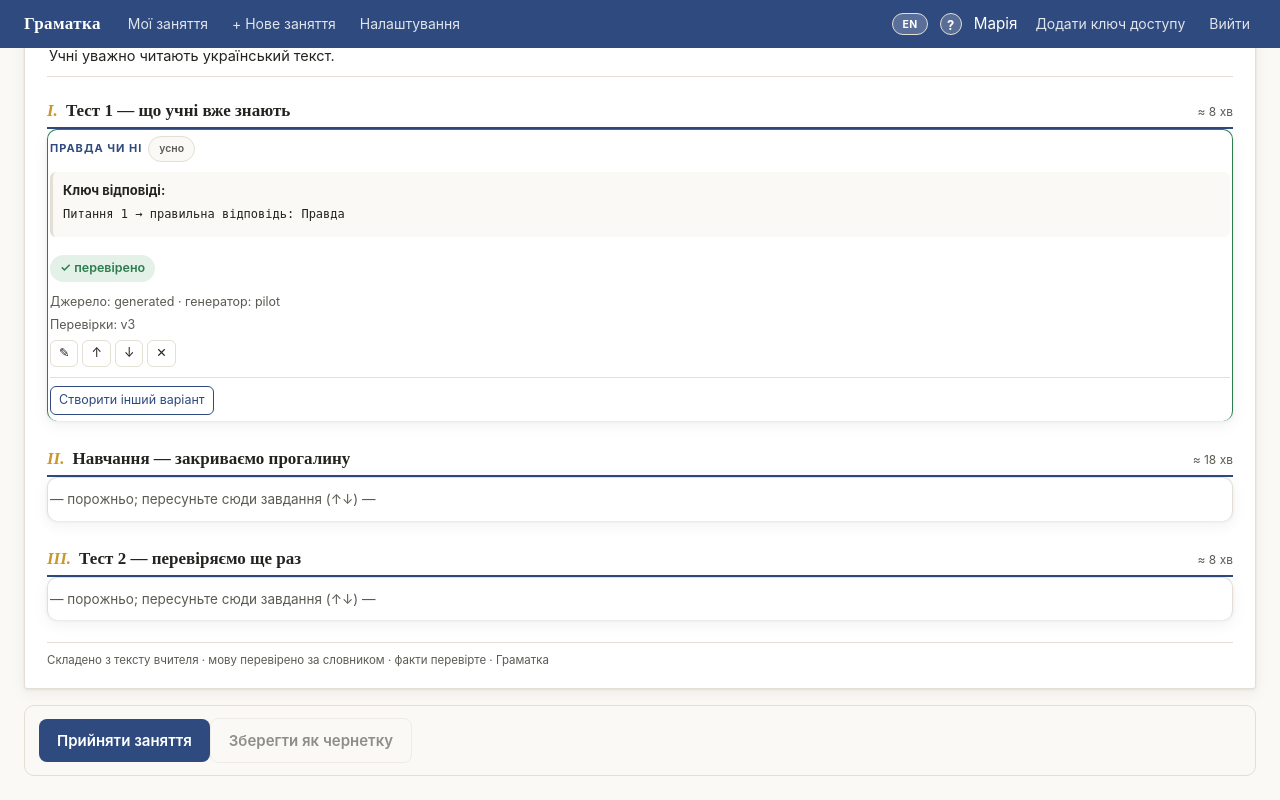
Test case: activity regeneration reconciliation (#418) › ignores a late conflict after the teacher opens another lesson
This screenshot has width=1280, height=800.
(page scrolled)
Click the button "Створити інший варіант". click: coordinates (132, 400)
box: x1=50 y1=386 x2=214 y2=415
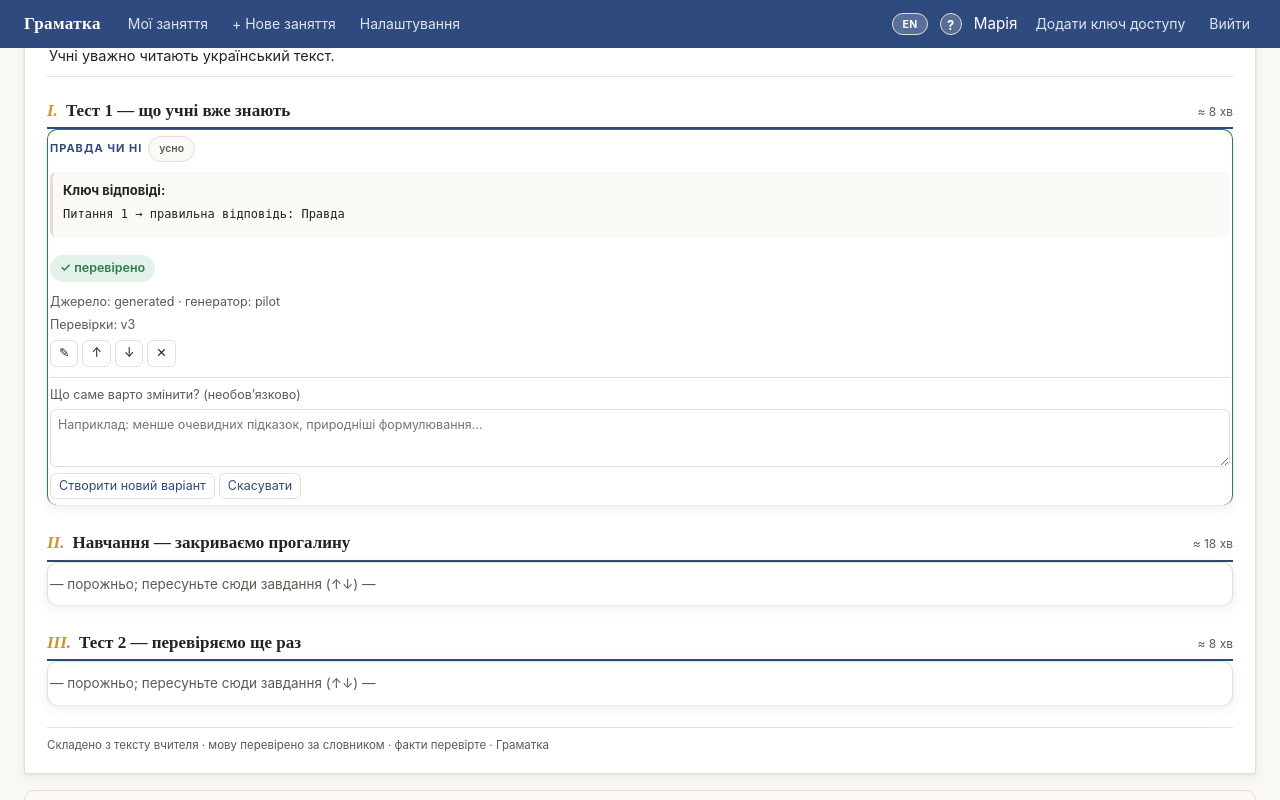
Click the button "Створити новий варіант". click: coordinates (132, 486)
box: x1=50 y1=473 x2=215 y2=499
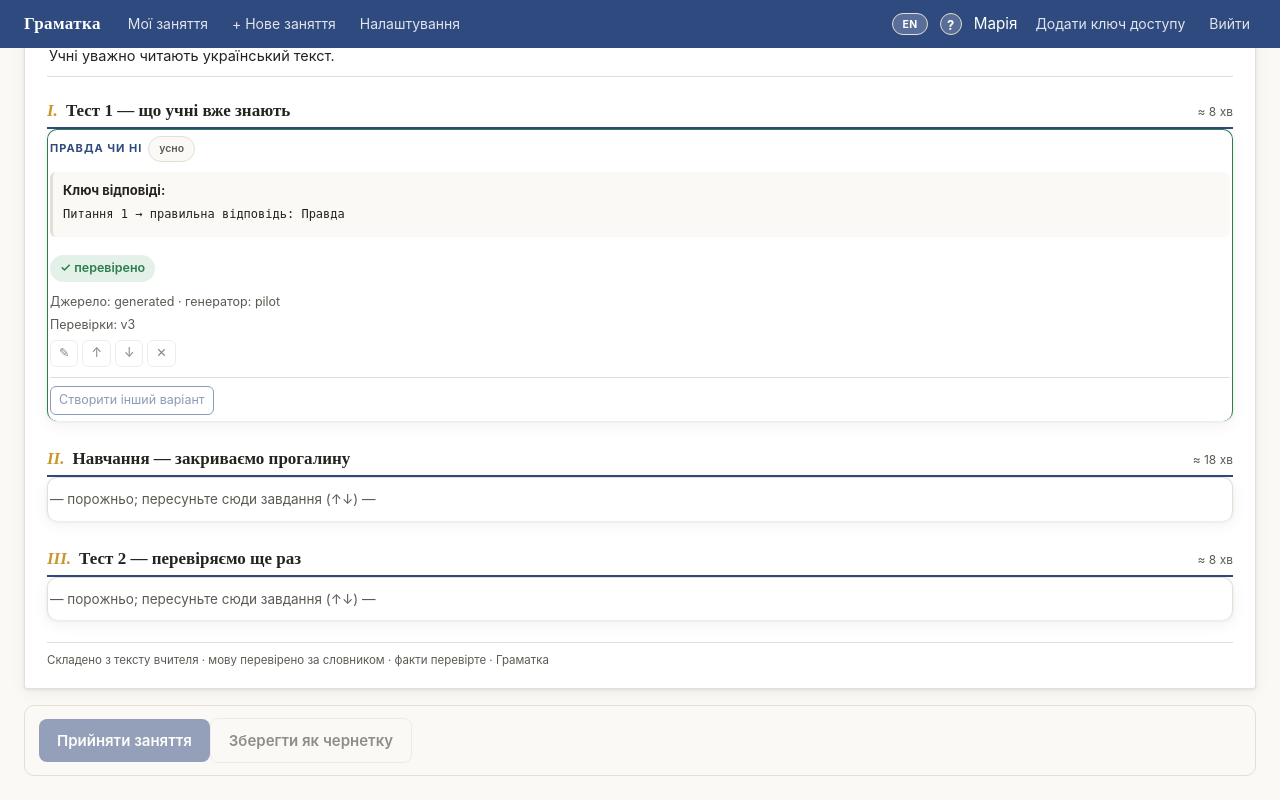
Click the button "Мої заняття". click: coordinates (168, 24)
box: x1=119 y1=10 x2=217 y2=38
(page scrolled)
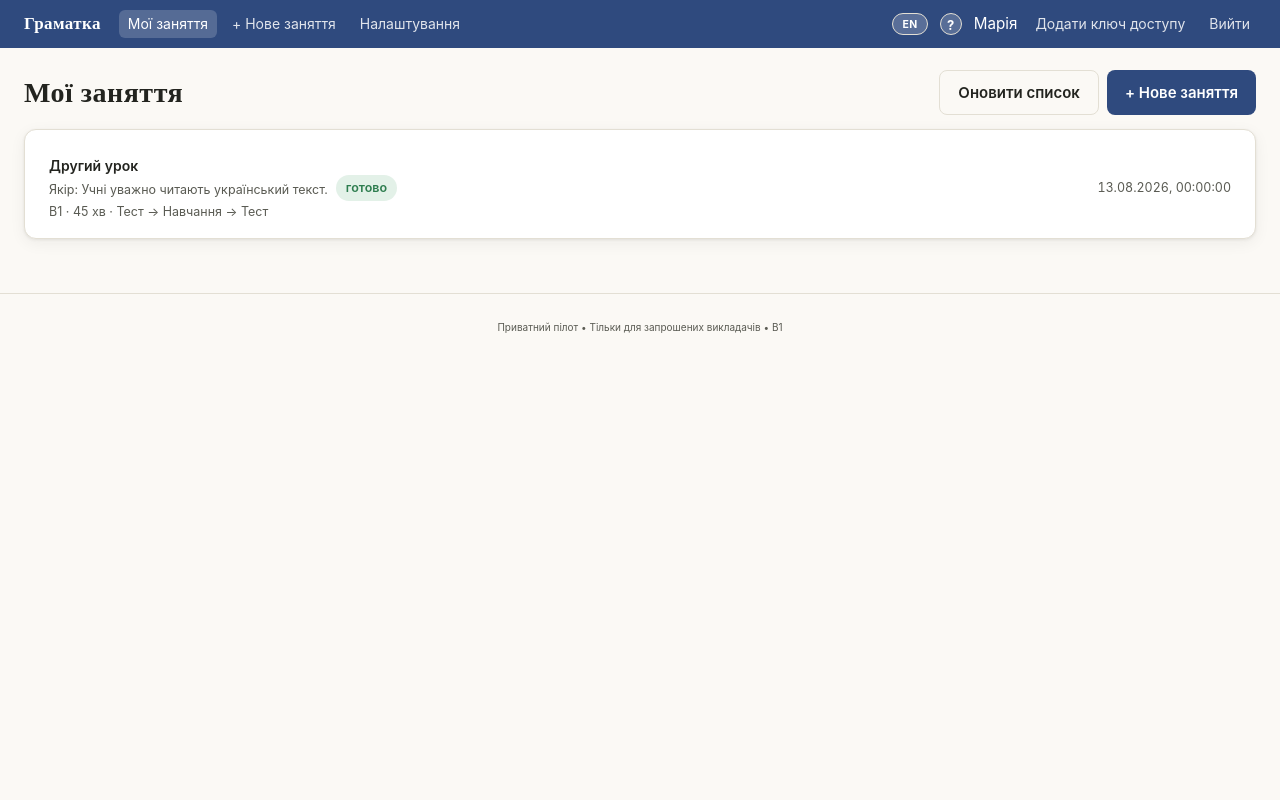
Check: the text "Другий урок" is shown, box x1=49 y1=157 x2=138 y2=174
Click the button with test id "catalog-open-btn". click: coordinates (94, 165)
box: x1=49 y1=155 x2=1231 y2=221
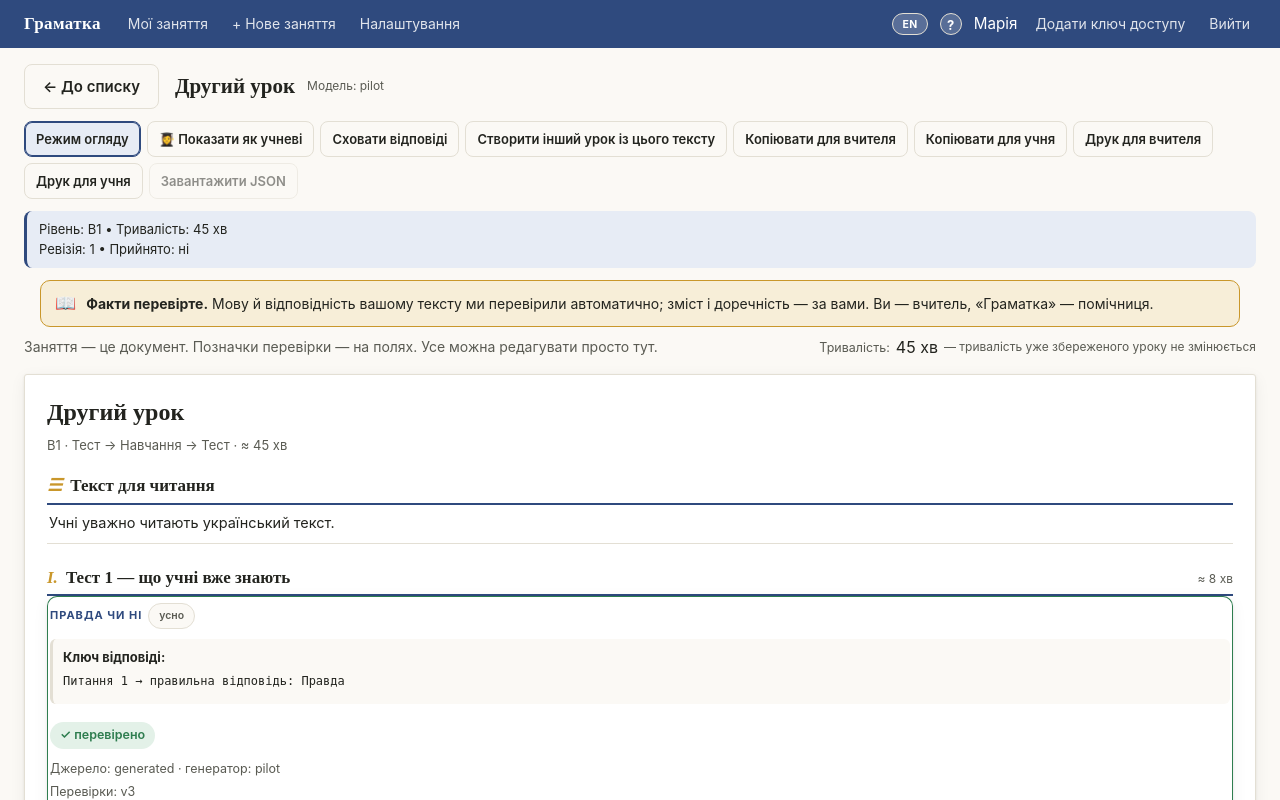
Check: the text "Модель: pilot" is shown, box x1=307 y1=77 x2=384 y2=96
Check: the heading "Другий урок" is shown, box x1=175 y1=70 x2=295 y2=102
